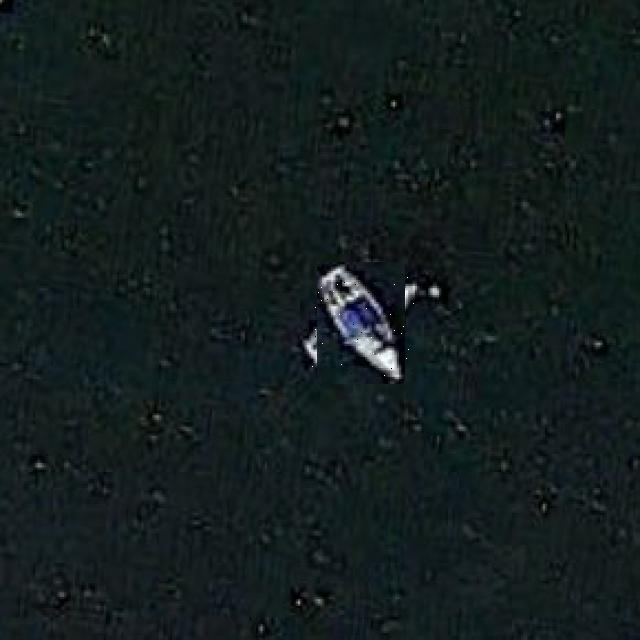boat: (308, 271, 414, 376)
